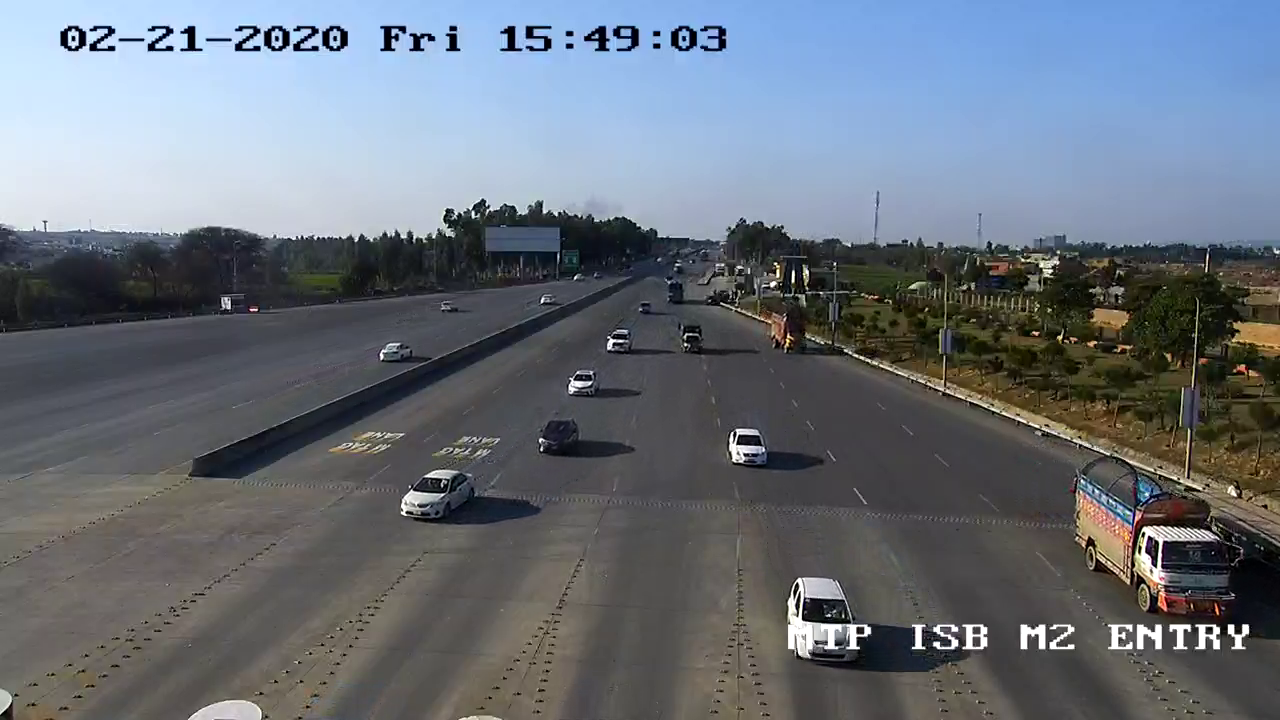f1: (386, 460, 482, 529)
f5: (1062, 444, 1249, 624), (720, 418, 774, 474), (532, 411, 585, 463)
